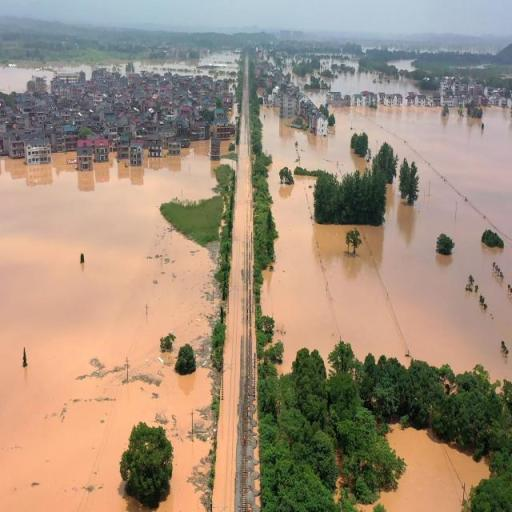flood: (0, 141, 220, 512), (263, 106, 512, 379), (212, 53, 254, 512), (384, 429, 489, 512), (314, 58, 417, 96), (135, 52, 239, 78), (0, 64, 92, 92), (285, 59, 311, 88), (388, 58, 414, 70), (307, 90, 328, 104)
house: (26, 140, 53, 164), (77, 144, 93, 171), (128, 140, 143, 167), (315, 112, 329, 138), (281, 94, 296, 118), (63, 129, 78, 150), (329, 92, 351, 106), (214, 120, 230, 138), (116, 136, 128, 159), (96, 140, 109, 161), (10, 139, 24, 158), (362, 91, 378, 105), (106, 116, 118, 134), (169, 139, 181, 155), (149, 143, 162, 157), (211, 139, 220, 159), (440, 95, 454, 106), (263, 94, 274, 106), (416, 94, 426, 106), (215, 109, 224, 120), (406, 94, 415, 105), (386, 94, 394, 106), (354, 96, 362, 106), (378, 92, 385, 103), (396, 94, 402, 106)
